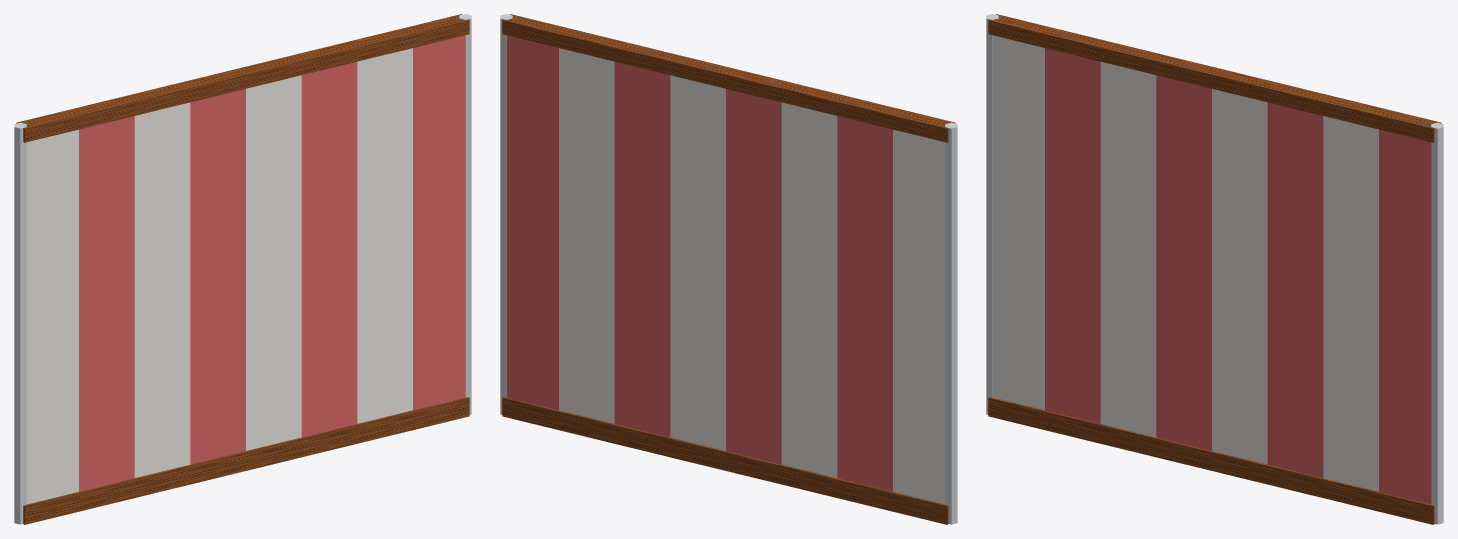
The model's file is travelling-circus-and-big-top-big-top-canvas-bay-2b03ceac__36227.glb.
3 renders of one model, left to right at view 1: azimuth 30°, elevation 25°; view 2: azimuth 150°, elevation 25°; view 3: azimuth 330°, elevation 25°, orthographic.
Visible parts, largest first — view 1: big-top-canvas-bay-canvas, big-top-canvas-bay-stripe, big-top-canvas-bay-timber, big-top-canvas-bay-steel; view 2: big-top-canvas-bay-canvas, big-top-canvas-bay-stripe, big-top-canvas-bay-timber, big-top-canvas-bay-steel; view 3: big-top-canvas-bay-stripe, big-top-canvas-bay-canvas, big-top-canvas-bay-timber, big-top-canvas-bay-steel.
Part boxes in pixels (x1,y1,x2,y2): big-top-canvas-bay-canvas: (26, 48, 412, 504); big-top-canvas-bay-stripe: (79, 35, 465, 491); big-top-canvas-bay-timber: (16, 14, 469, 524); big-top-canvas-bay-steel: (14, 14, 471, 524); big-top-canvas-bay-canvas: (559, 48, 945, 504); big-top-canvas-bay-stripe: (506, 35, 892, 491); big-top-canvas-bay-timber: (502, 14, 955, 524); big-top-canvas-bay-steel: (500, 14, 957, 524); big-top-canvas-bay-stripe: (1045, 48, 1431, 504); big-top-canvas-bay-canvas: (992, 35, 1378, 491); big-top-canvas-bay-timber: (988, 14, 1441, 524); big-top-canvas-bay-steel: (986, 14, 1443, 524).
Size of the model in its own units: 4.11 by 3.4 by 0.1299.
Materials: 4 (1 with a texture image).
